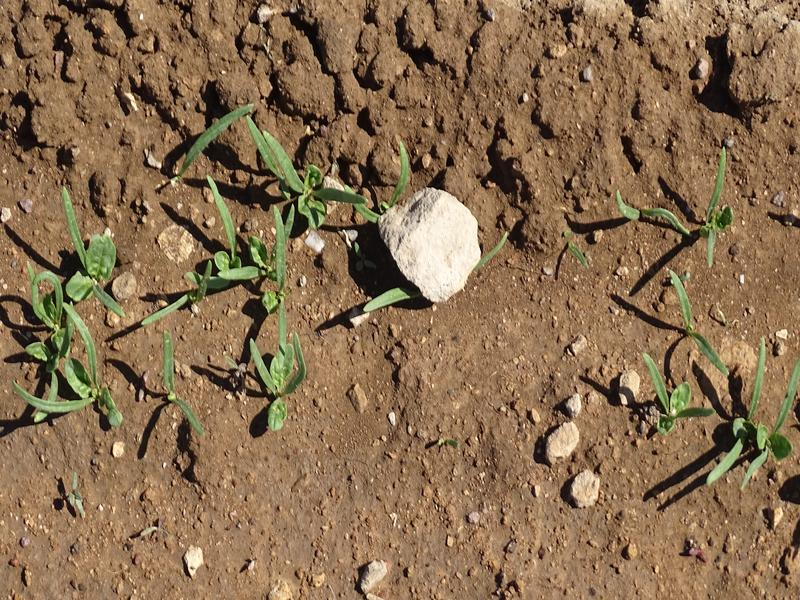Espinaca: (28, 115, 410, 442), (640, 285, 799, 497), (611, 168, 743, 268)
